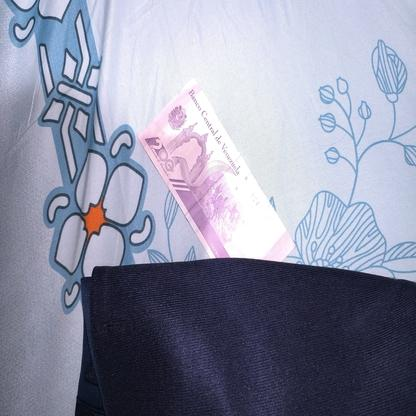one_hundred-back-vef: (138, 78, 295, 262)
